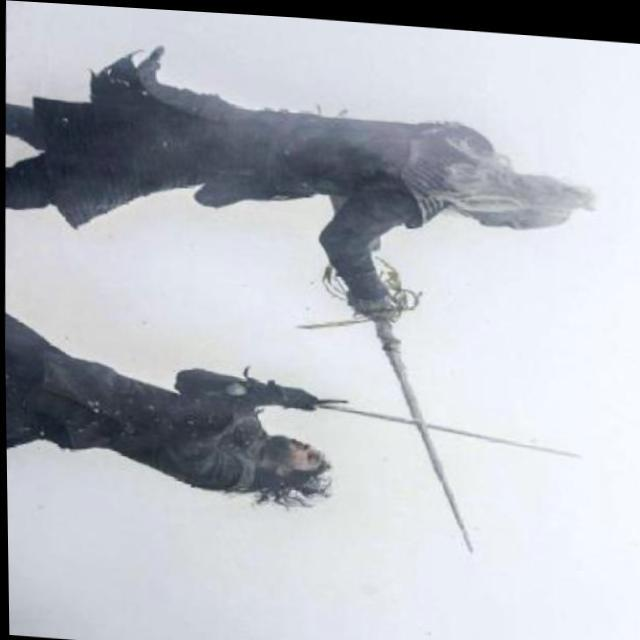weapon: (201, 357, 581, 475), (338, 294, 485, 552)
